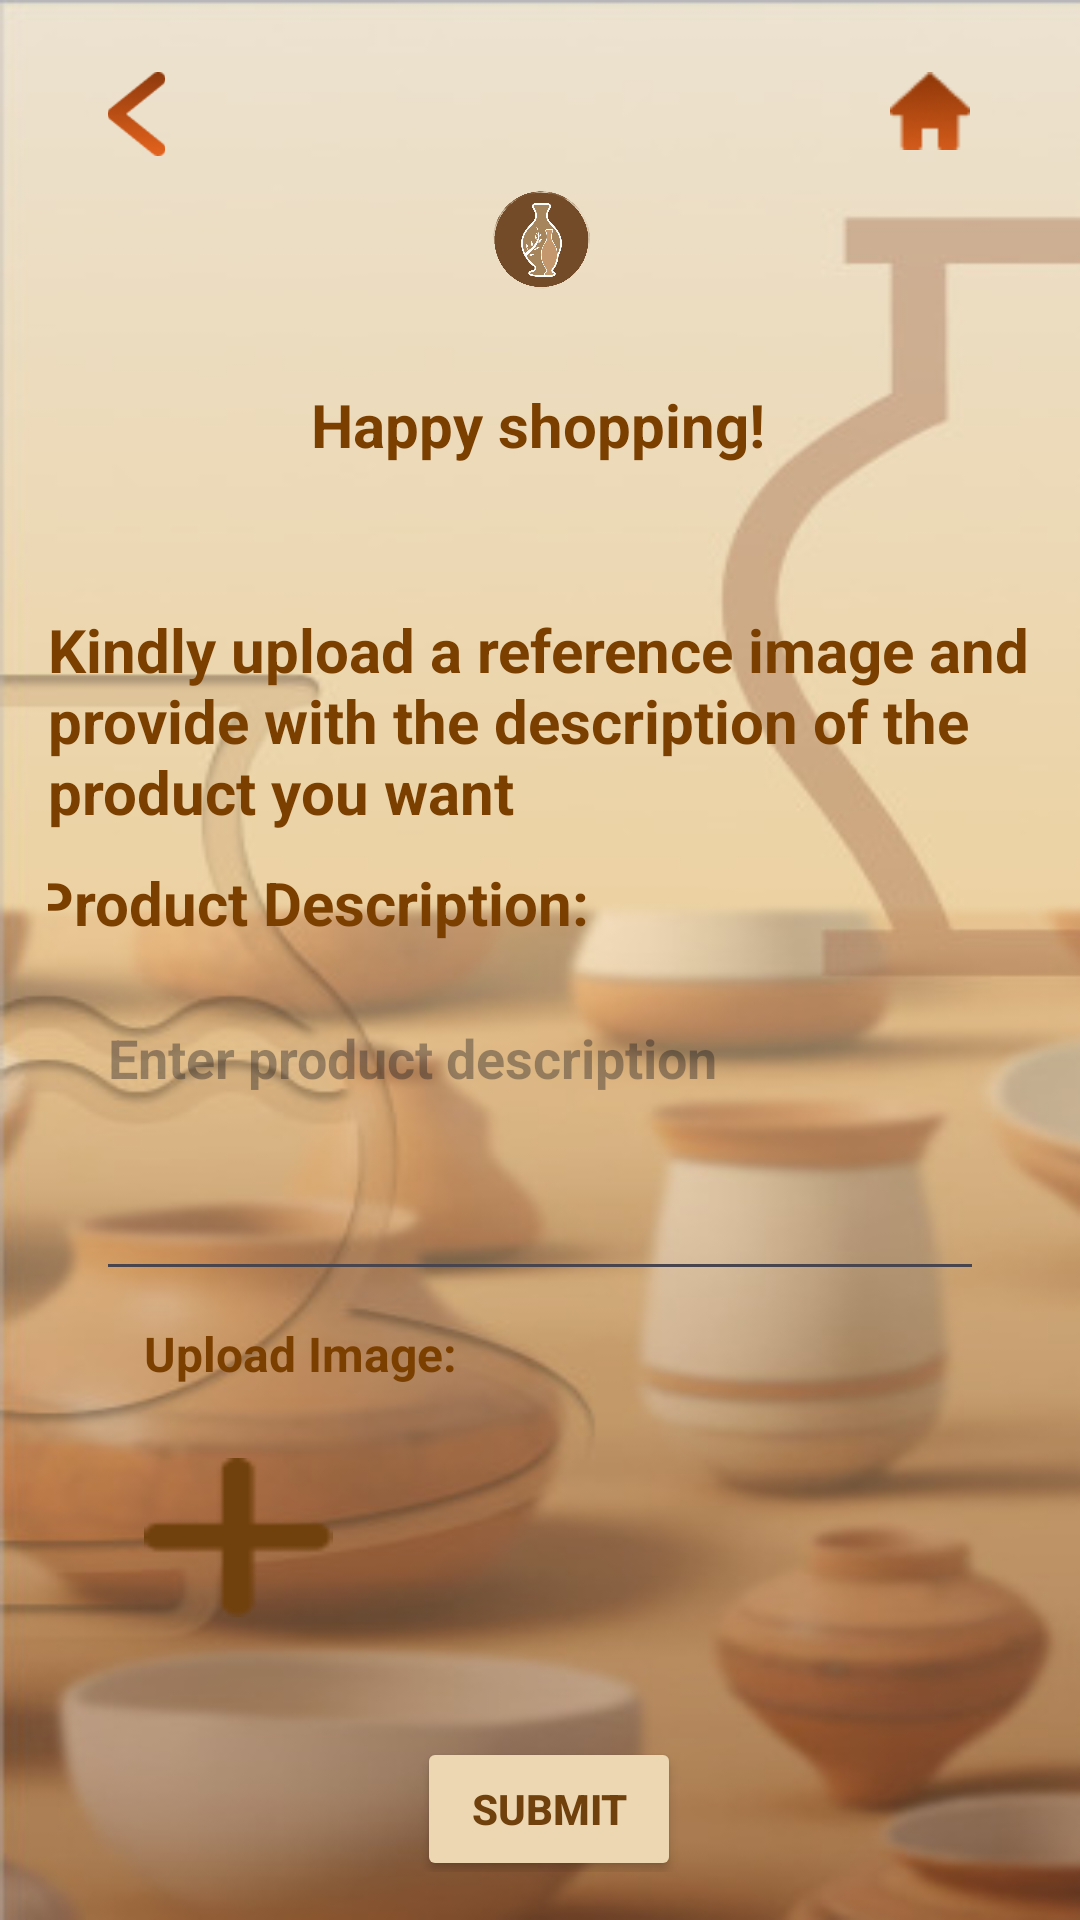

Named icons in this screenshot (1080*1920) and their centers, point (x, y):
arrow: point (136, 114)
home: point (930, 111)
uploadbtn: point (238, 1537)
